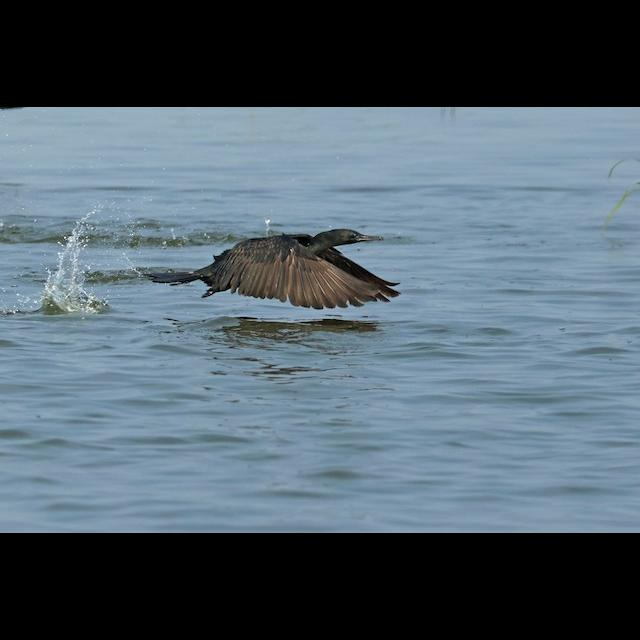cormorant: (147, 225, 407, 307)
